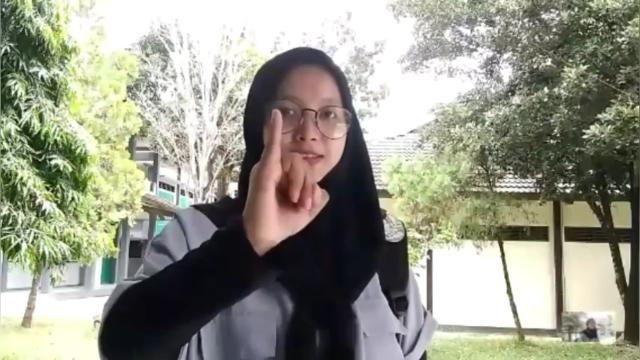I: (246, 108, 324, 252)
